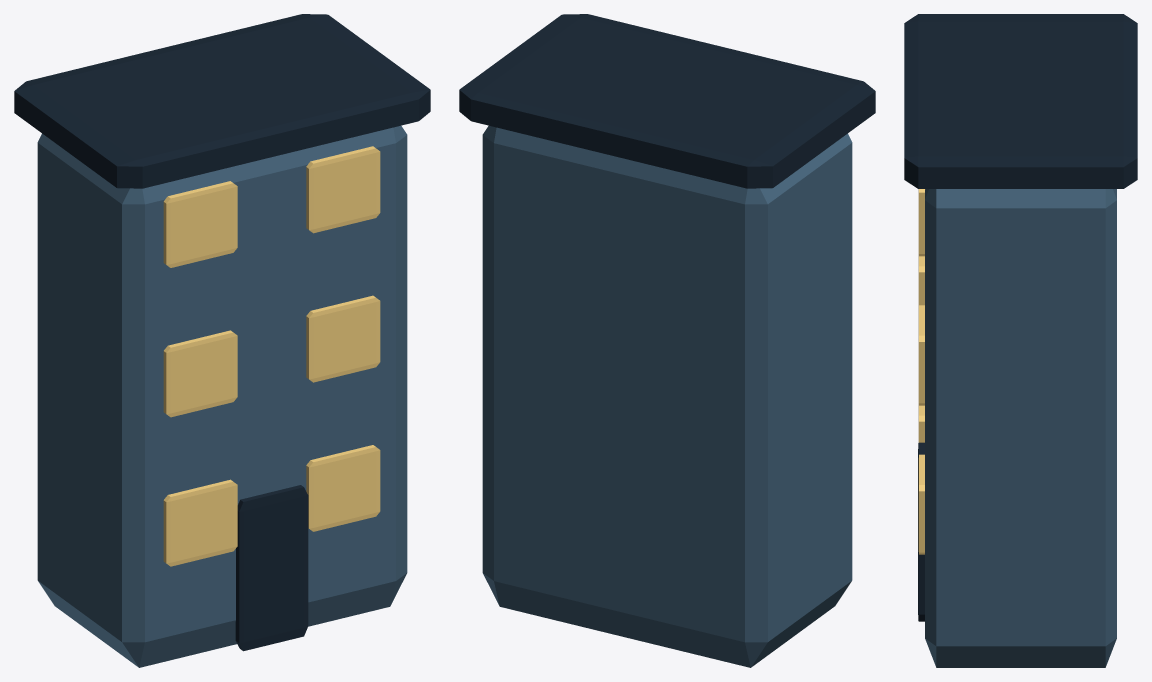
Rendered from building.glb.
3 views of the same model, side by side, from view 1: azimuth 30°, elevation 25°; view 2: azimuth 150°, elevation 25°; view 3: azimuth 270°, elevation 25° (orthographic).
Parts seen in each view (by area): view 1: door.001; view 2: door.001; view 3: door.001.
Part boxes in pixels (x1,y1,x2,y2): door.001: (14,14,430,667); door.001: (459,14,875,667); door.001: (904,14,1137,667).
Size of the model in its own units: 2.64 by 4.16 by 1.7.
